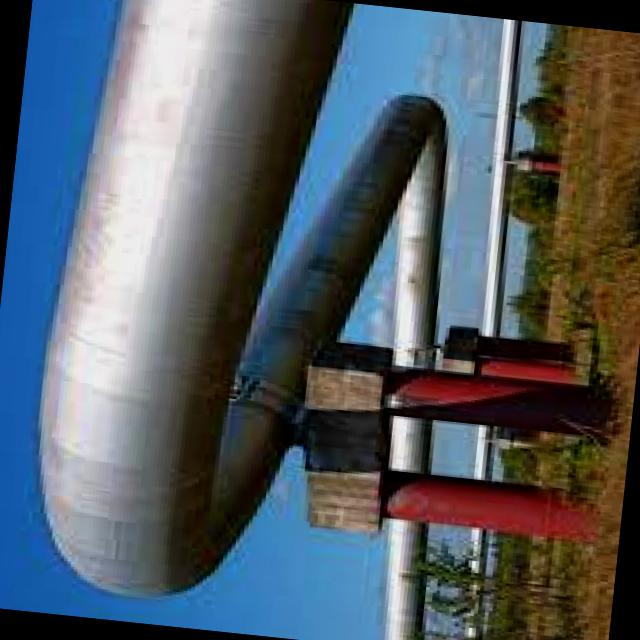gas: (39, 0, 353, 595), (197, 95, 441, 569), (391, 118, 439, 367), (393, 144, 441, 365), (383, 518, 426, 640), (388, 415, 431, 471)
